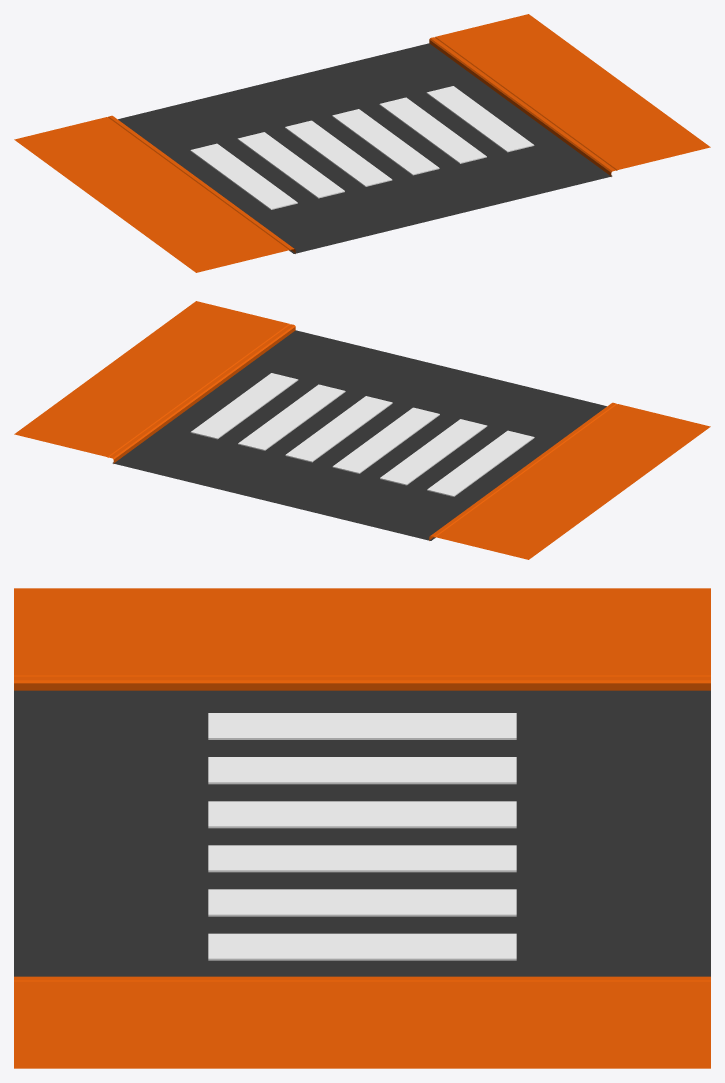
The model's file is SM_Road_CrossWalk.fbx.
3 views of the same model, one above another, from view 1: azimuth 30°, elevation 25°; view 2: azimuth 150°, elevation 25°; view 3: azimuth 270°, elevation 25° (orthographic). The views are drawn at different scales.
Parts seen in each view (by area): view 1: Box084, Sideroad016, Sideroad015, Road001; view 2: Box084, Sideroad016, Sideroad015, Road001; view 3: Box084, Sideroad015, Sideroad016, Road001.
Part boxes in pixels (bbox=[...]): Box084: bbox=[118, 43, 612, 253]; Sideroad016: bbox=[429, 14, 710, 176]; Sideroad015: bbox=[14, 115, 295, 272]; Road001: bbox=[190, 86, 534, 209]; Box084: bbox=[112, 330, 606, 540]; Sideroad016: bbox=[14, 301, 295, 463]; Sideroad015: bbox=[429, 402, 710, 559]; Road001: bbox=[190, 373, 534, 496]; Box084: bbox=[14, 690, 710, 976]; Sideroad015: bbox=[14, 588, 710, 690]; Sideroad016: bbox=[14, 976, 710, 1068]; Road001: bbox=[208, 713, 516, 960].
Size of the model in its own units: 1860 by 20.23 by 1140.
